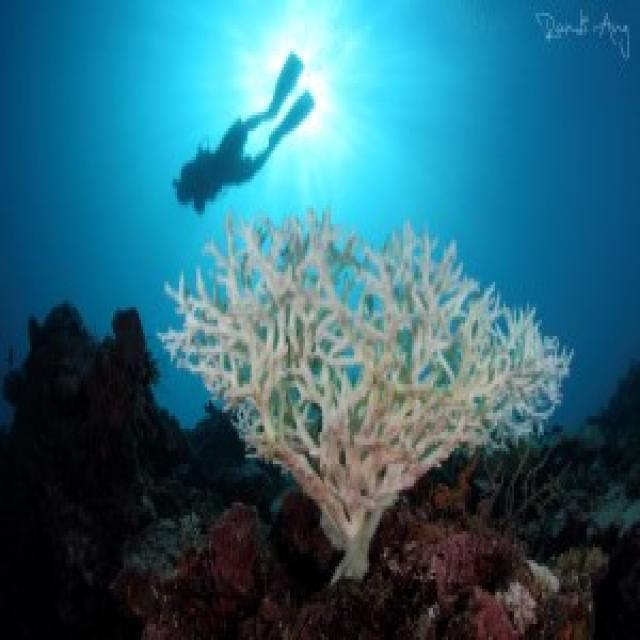Bleached: (158, 215, 570, 584)
Healthy: (136, 502, 261, 634), (400, 500, 508, 627)
